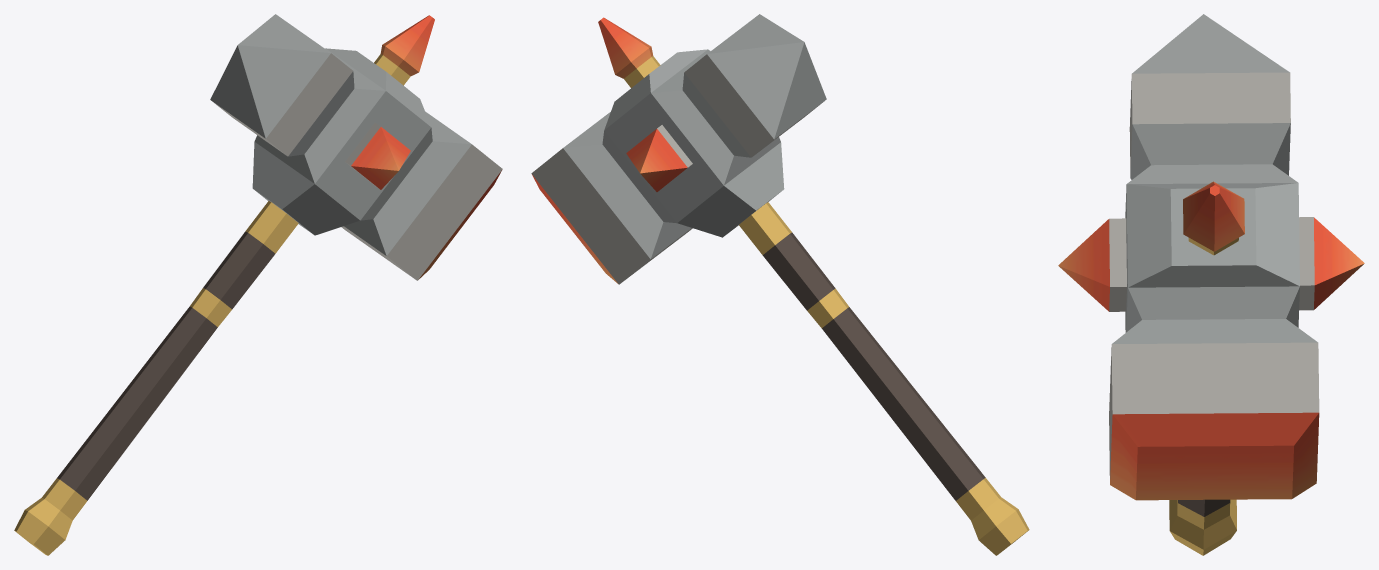
The model's file is firehammer01.fbx.
3 renders of one model, left to right at view 1: azimuth 30°, elevation 25°; view 2: azimuth 150°, elevation 25°; view 3: azimuth 270°, elevation 25°, orthographic. The views are drawn at different scales.
Visible parts, largest first — view 1: firehammer01; view 2: firehammer01; view 3: firehammer01.
Part boxes in pixels (bbox=[...]): firehammer01: bbox=[14, 14, 502, 555]; firehammer01: bbox=[531, 14, 1029, 555]; firehammer01: bbox=[1058, 14, 1364, 555].
Bounding box in the file's own units: 1.22 × 1.18 × 0.4844.
Materials: 1 (1 with a texture image).
